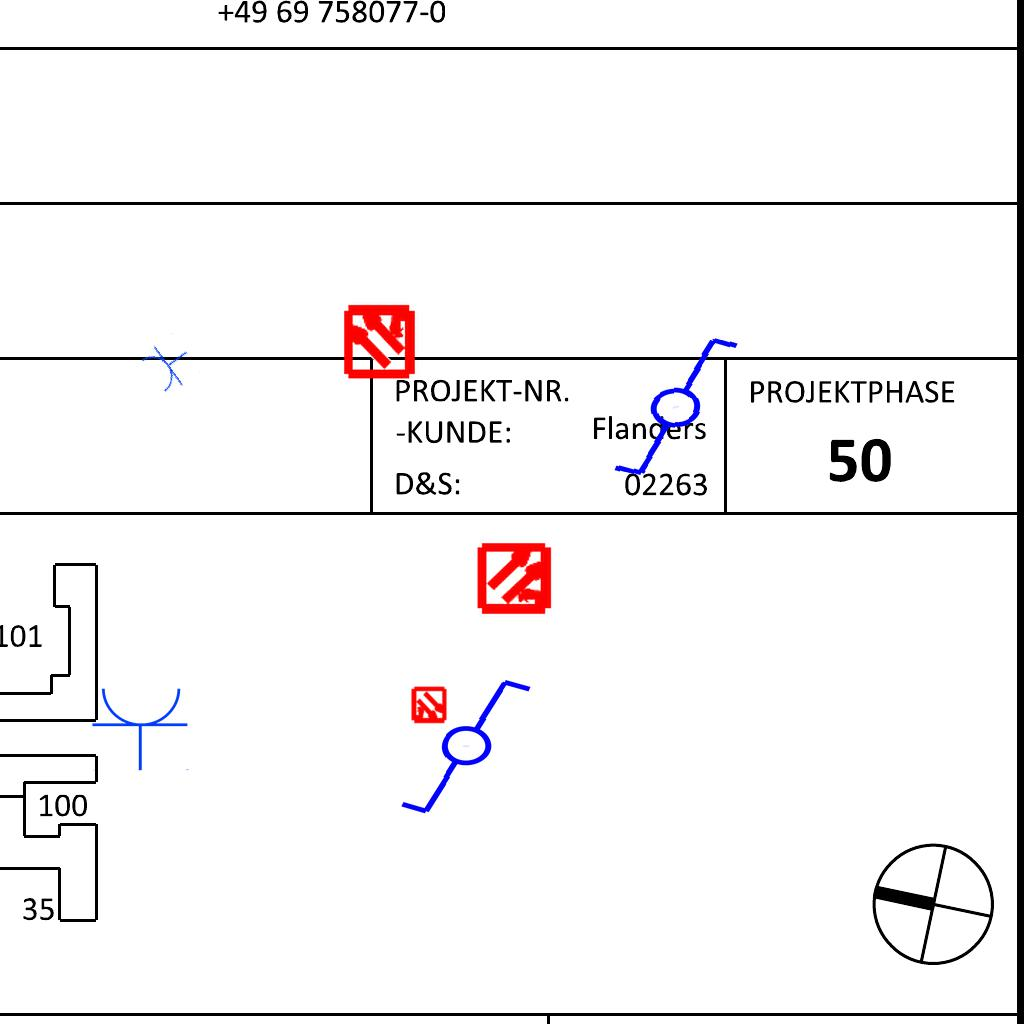OT_Multisensormelder_(Kombination_RMO_WMD): (323, 283, 436, 396), (460, 522, 573, 635), (401, 678, 457, 734)
Schukosteckdose_einfach: (91, 684, 191, 771), (136, 331, 202, 398)
Wechselschalter: (584, 328, 751, 484), (394, 674, 555, 822)
